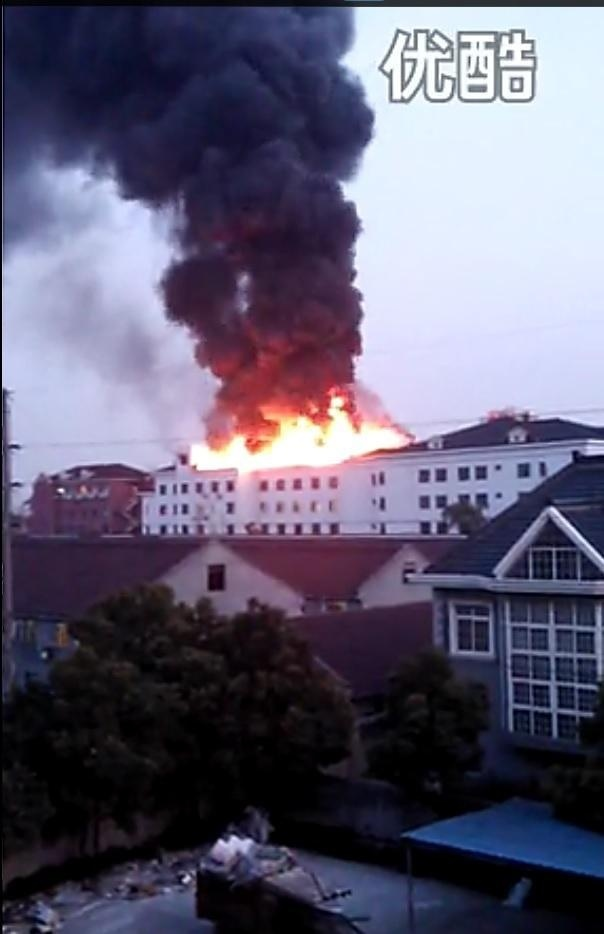fire: (184, 389, 411, 468)
